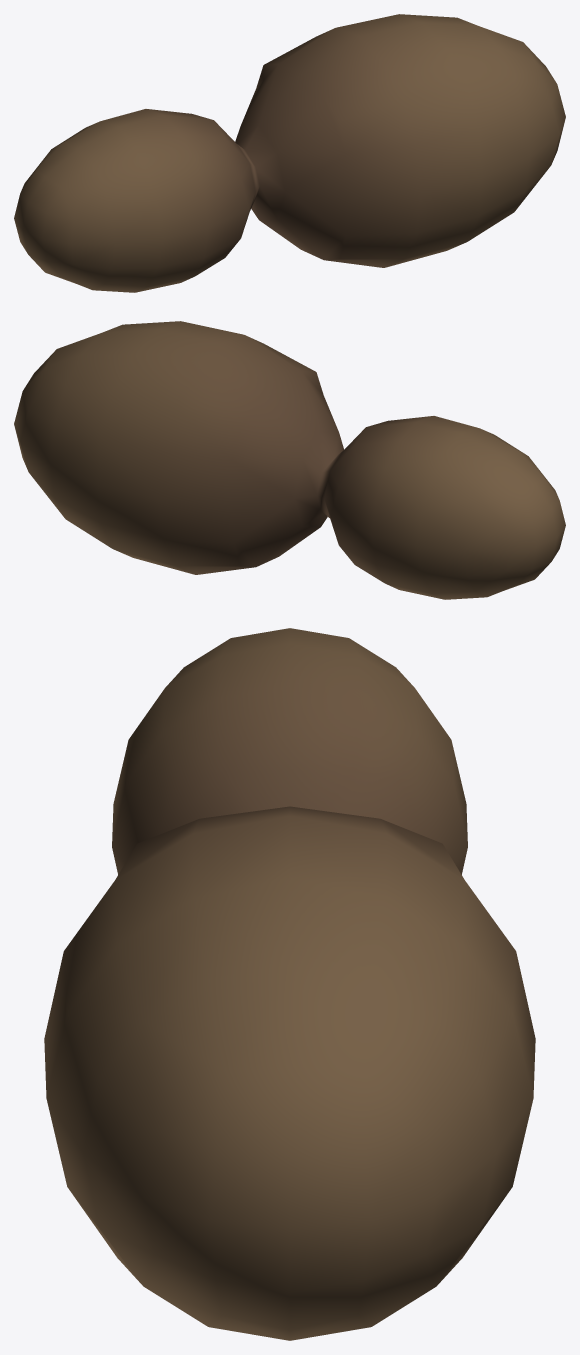
Rendered from microscopic-cells-yeast-cell_v4.glb.
The picture shows the model from 3 angles, top to bottom: view 1: azimuth 30°, elevation 25°; view 2: azimuth 150°, elevation 25°; view 3: azimuth 270°, elevation 25°; orthographic projection. The views are drawn at different scales.
Visible parts, largest first — view 1: Yeast Cell_v4; view 2: Yeast Cell_v4; view 3: Yeast Cell_v4.
Part boxes in pixels (box(x1,y1,x2,y2)): Yeast Cell_v4: box(14, 14, 565, 292); Yeast Cell_v4: box(14, 321, 565, 599); Yeast Cell_v4: box(44, 628, 535, 1340).
Size of the model in its own units: 0.5 by 0.2003 by 0.2003.
